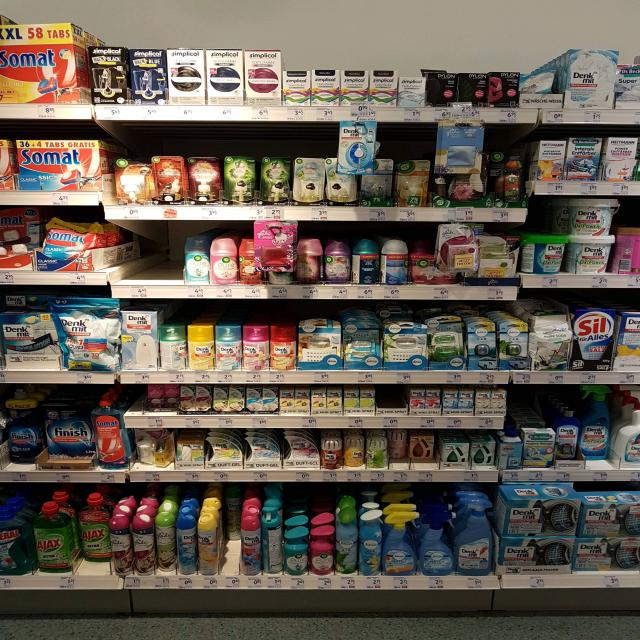void: (142, 221, 185, 301), (109, 220, 139, 296), (378, 385, 408, 432)
